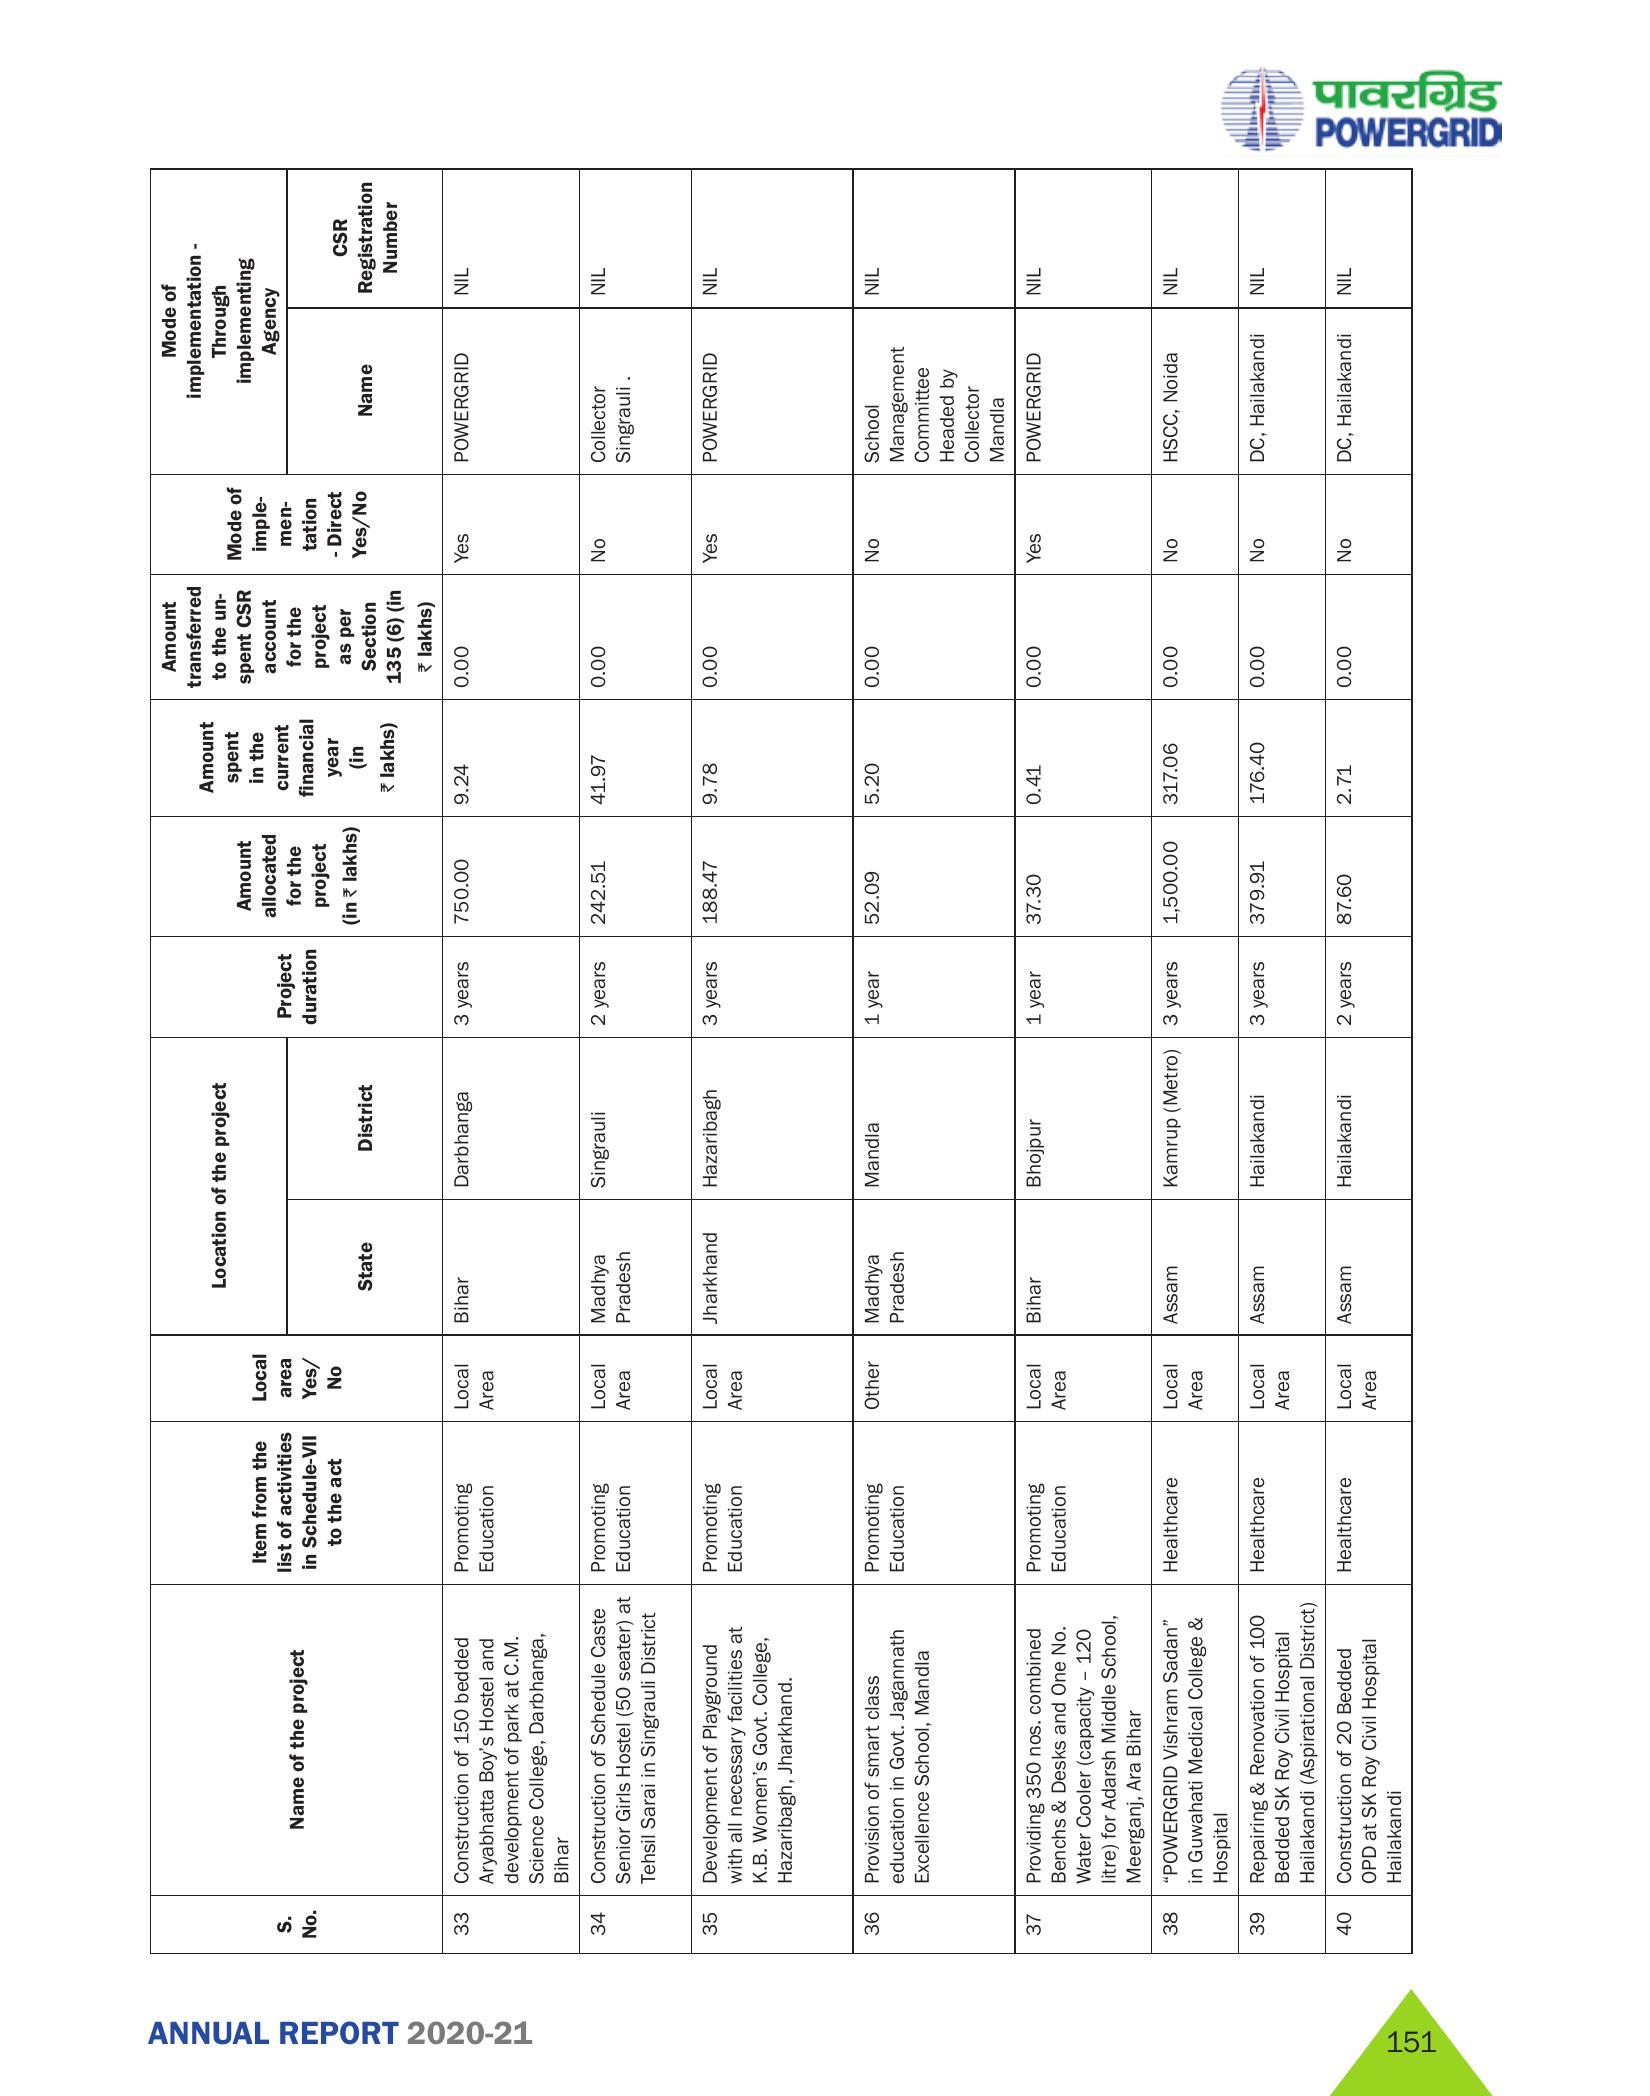Footer: (0, 1968, 1650, 2096)
Header: (0, 0, 1650, 172)
Table: (82, 172, 1449, 1968)
